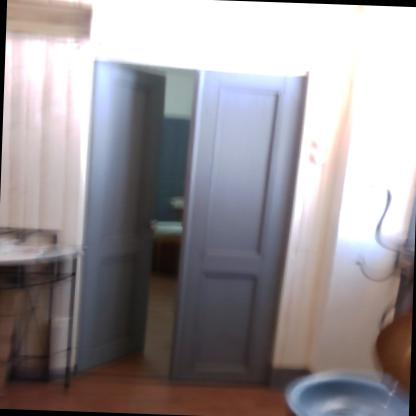semi: (66, 46, 300, 397)
